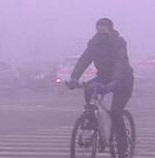person: (76, 14, 134, 151)
